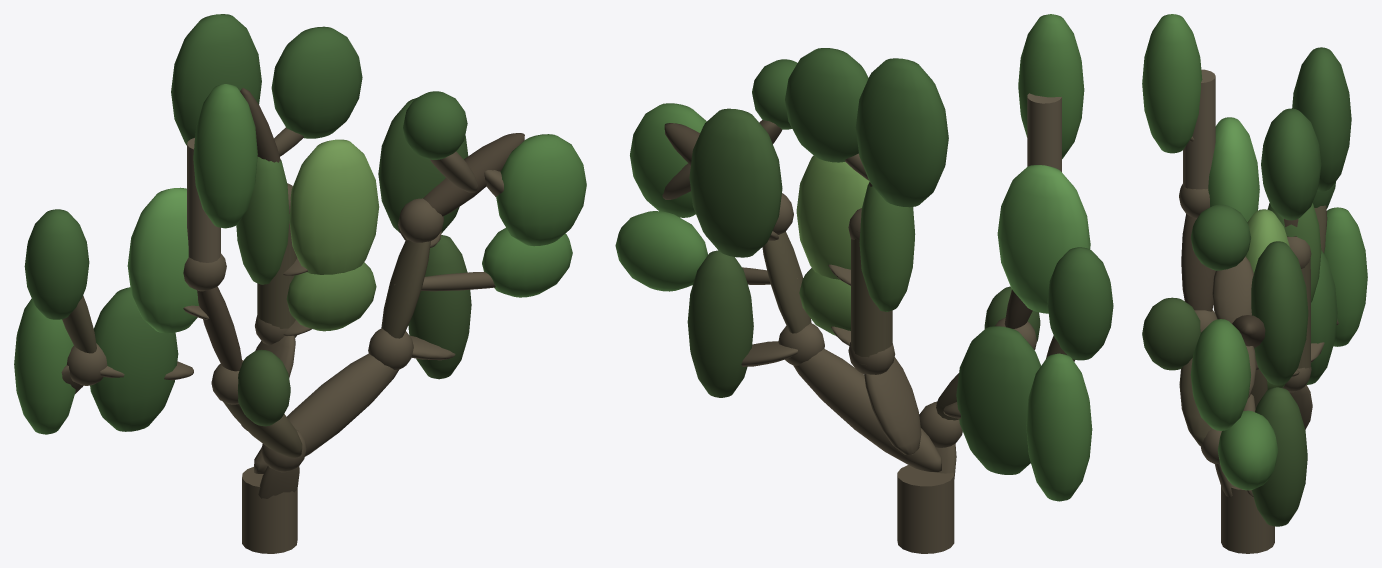
Rendered from CMU3DRMCBushg4.glb.
3 renders of one model, left to right at view 1: azimuth 30°, elevation 25°; view 2: azimuth 150°, elevation 25°; view 3: azimuth 270°, elevation 25°, orthographic. The views are drawn at different scales.
Parts seen in each view (by area): view 1: source broad leaf patch 6, source broad leaf patch 11, source broad leaf patch 2, source broad leaf patch 9, source broad leaf patch 4, source broad leaf patch 0, source broad leaf patch 1, source broad leaf patch 10, source broad leaf patch 8, visible stem 2 section 0, source broad leaf patch 13, source broad leaf patch 5 (+24 smaller); view 2: source broad leaf patch 7, source broad leaf patch 1, source broad leaf patch 11, source broad leaf patch 4, source broad leaf patch 10, source broad leaf patch 13, source broad leaf patch 2, source broad leaf patch 6, source broad leaf patch 8, source broad leaf patch 0, source broad leaf patch 14, source broad leaf patch 5 (+17 smaller); view 3: source broad leaf patch 0, source broad leaf patch 7, source broad leaf patch 2, source broad leaf patch 9, source broad leaf patch 1, source broad leaf patch 13, source broad leaf patch 10, source broad leaf patch 4, source broad leaf patch 14, source broad leaf patch 15, source broad leaf patch 3, root base 0 (+19 smaller).
Part boxes in pixels (x1,y1,x2,y2): source broad leaf patch 6: (289, 139, 379, 274); source broad leaf patch 11: (90, 287, 178, 431); source broad leaf patch 2: (271, 26, 362, 138); source broad leaf patch 9: (496, 134, 586, 246); source broad leaf patch 4: (127, 187, 198, 333); source broad leaf patch 0: (193, 84, 257, 228); source broad leaf patch 1: (171, 14, 261, 145); source broad leaf patch 10: (14, 298, 75, 434); source broad leaf patch 8: (24, 209, 89, 319); visible stem 2 section 0: (253, 353, 398, 473); source broad leaf patch 13: (408, 235, 471, 379); source broad leaf patch 5: (236, 157, 289, 284); source broad leaf patch 7: (689, 108, 782, 257); source broad leaf patch 1: (855, 58, 948, 207); source broad leaf patch 11: (956, 326, 1040, 474); source broad leaf patch 4: (997, 165, 1090, 313); source broad leaf patch 10: (1026, 353, 1092, 501); source broad leaf patch 13: (687, 250, 753, 397); source broad leaf patch 2: (785, 48, 868, 162); source broad leaf patch 6: (796, 155, 869, 279); source broad leaf patch 8: (1047, 247, 1113, 360); source broad leaf patch 0: (1018, 14, 1084, 158); source broad leaf patch 14: (615, 211, 707, 291); source broad leaf patch 5: (859, 183, 915, 311); source broad leaf patch 0: (1142, 14, 1202, 153); source broad leaf patch 7: (1251, 241, 1308, 385); source broad leaf patch 2: (1261, 108, 1321, 220); source broad leaf patch 9: (1190, 319, 1250, 430); source broad leaf patch 1: (1292, 47, 1351, 191); source broad leaf patch 13: (1251, 387, 1307, 526); source broad leaf patch 10: (1324, 207, 1367, 346); source broad leaf patch 4: (1208, 117, 1259, 222); source broad leaf patch 14: (1217, 410, 1278, 490); source broad leaf patch 15: (1142, 297, 1200, 370); source broad leaf patch 3: (1190, 204, 1250, 270); root base 0: (1221, 486, 1274, 553).
Size of the model in its own units: 0.5266 by 0.4999 by 0.209.
